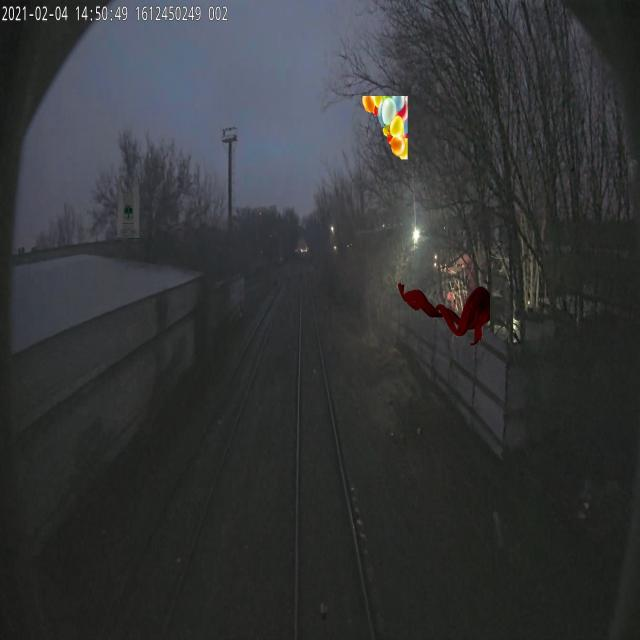balloon: (362, 96, 408, 160), (117, 175, 140, 239)
floating object: (396, 282, 490, 346)
